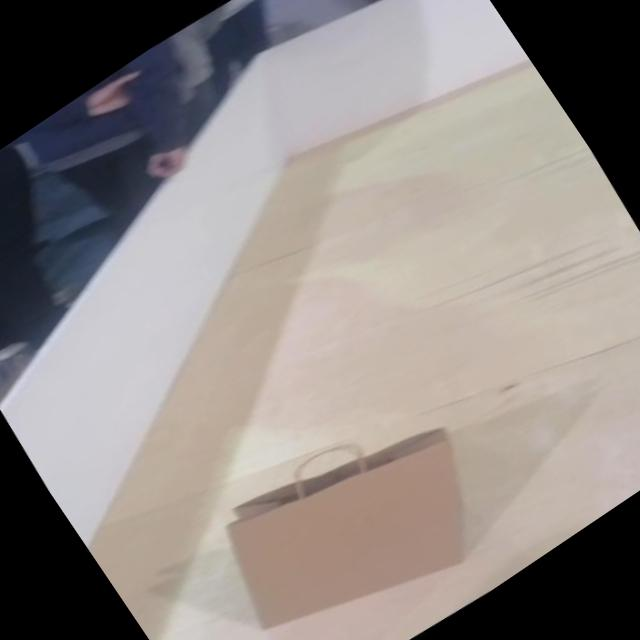Kardus: (196, 388, 512, 640)
